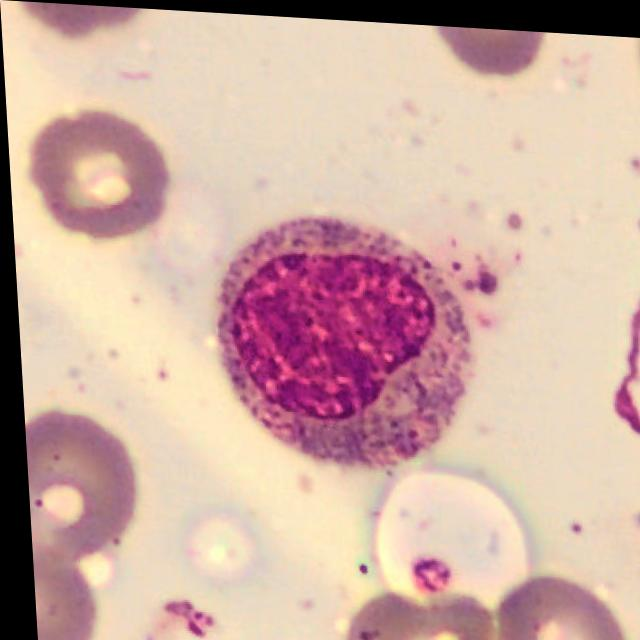Mielocito: (208, 209, 472, 473)
